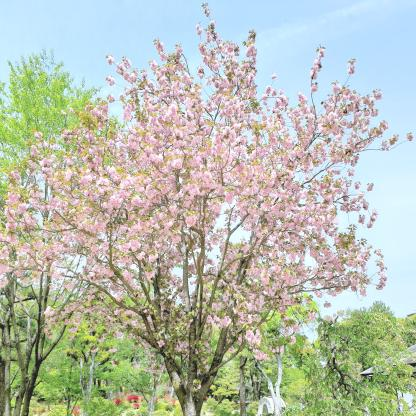YaeSakura: (0, 3, 414, 375)
